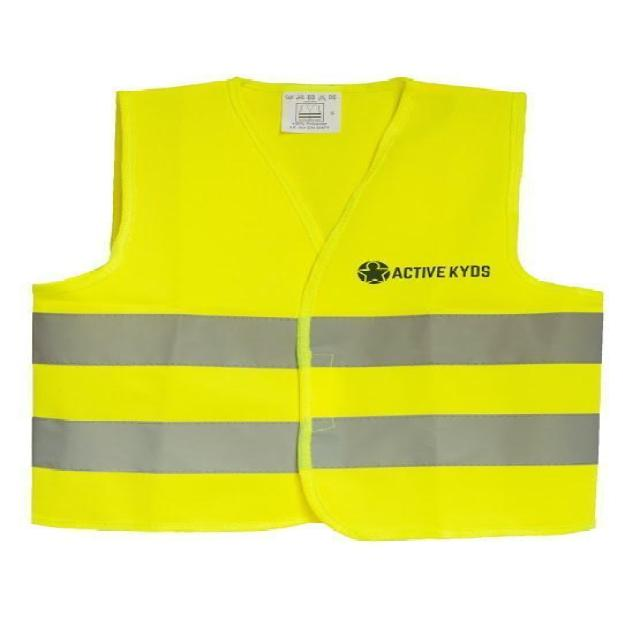Vest: (33, 62, 606, 544)
